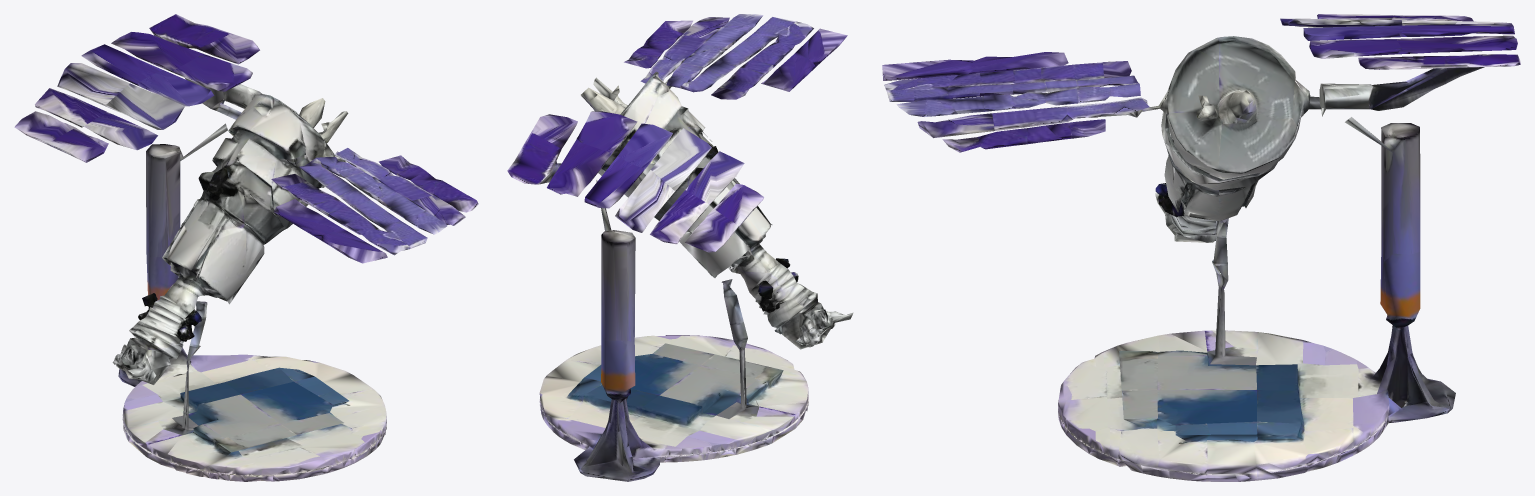
Rendered from technology-14.glb.
3 views of the same model, side by side, from view 1: azimuth 30°, elevation 25°; view 2: azimuth 150°, elevation 25°; view 3: azimuth 270°, elevation 25° (orthographic). The views are drawn at different scales.
Bounding box in the file's own units: 0.9489 × 1.09 × 1.62.
1 material, 1 textured.
